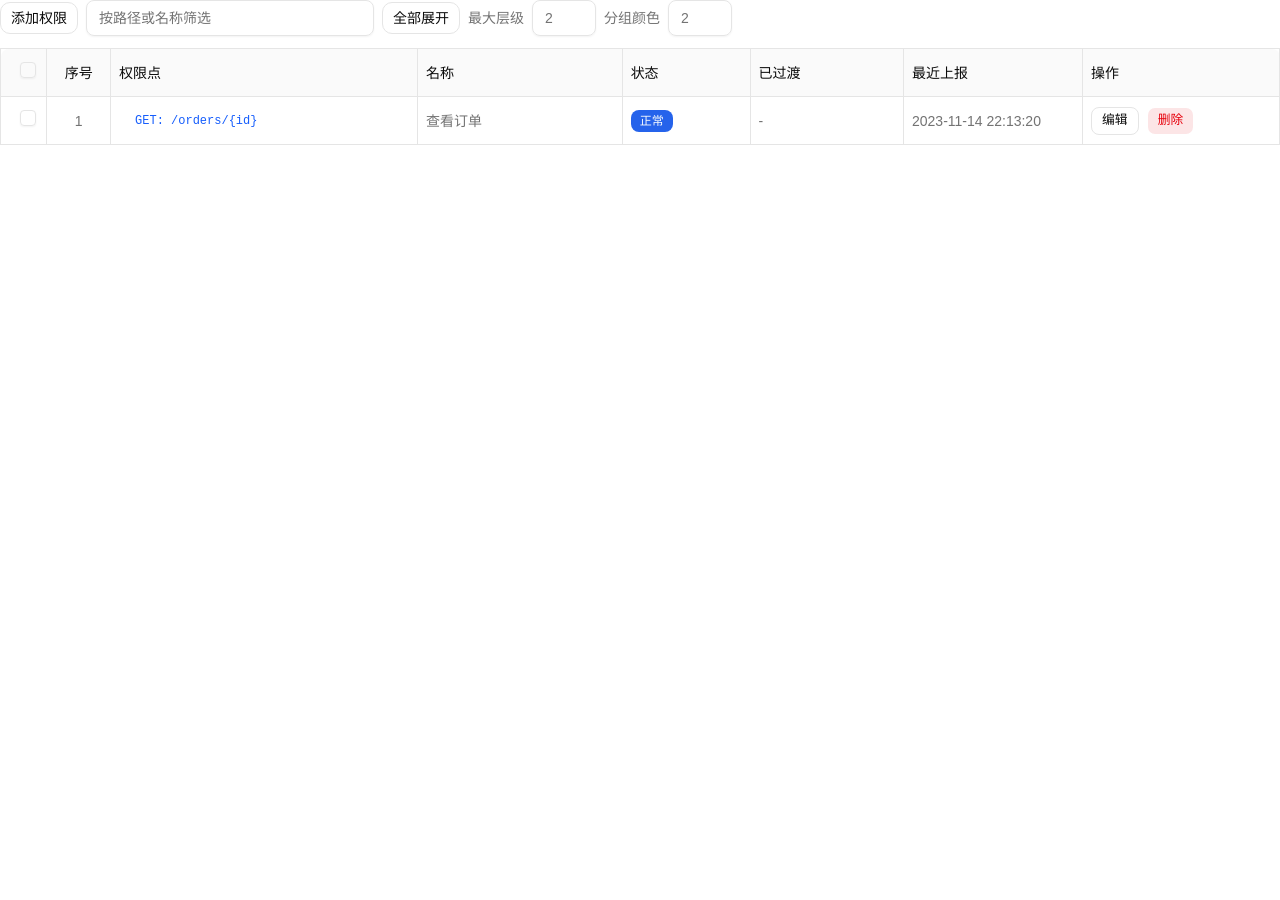
没有角色持有时，确认框说明不会影响任何人
Click the button "删除".
click(1170, 120)  # box [1147,106,1194,134]
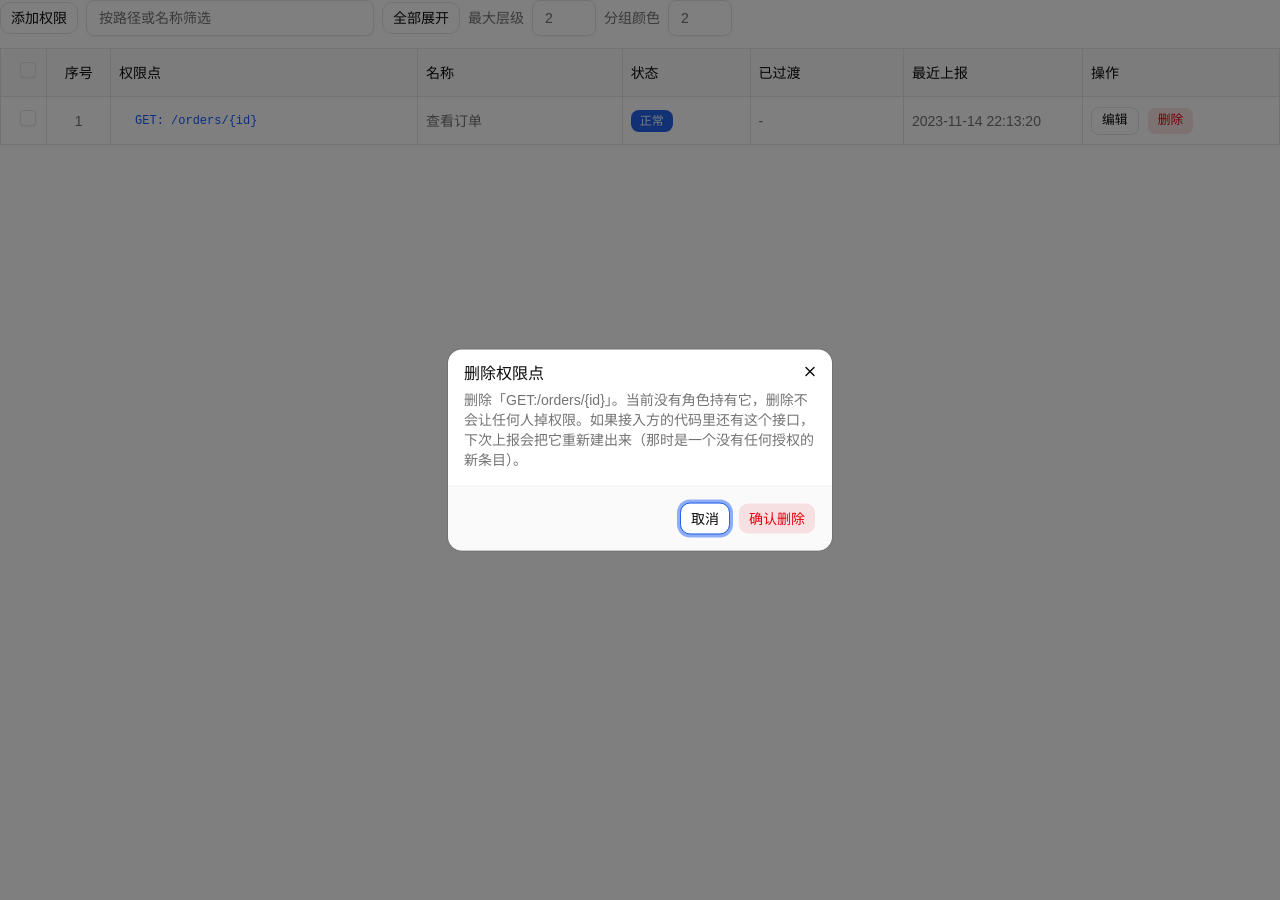
expect the text "没有角色持有它" is shown: met, box [464,392,814,468]
